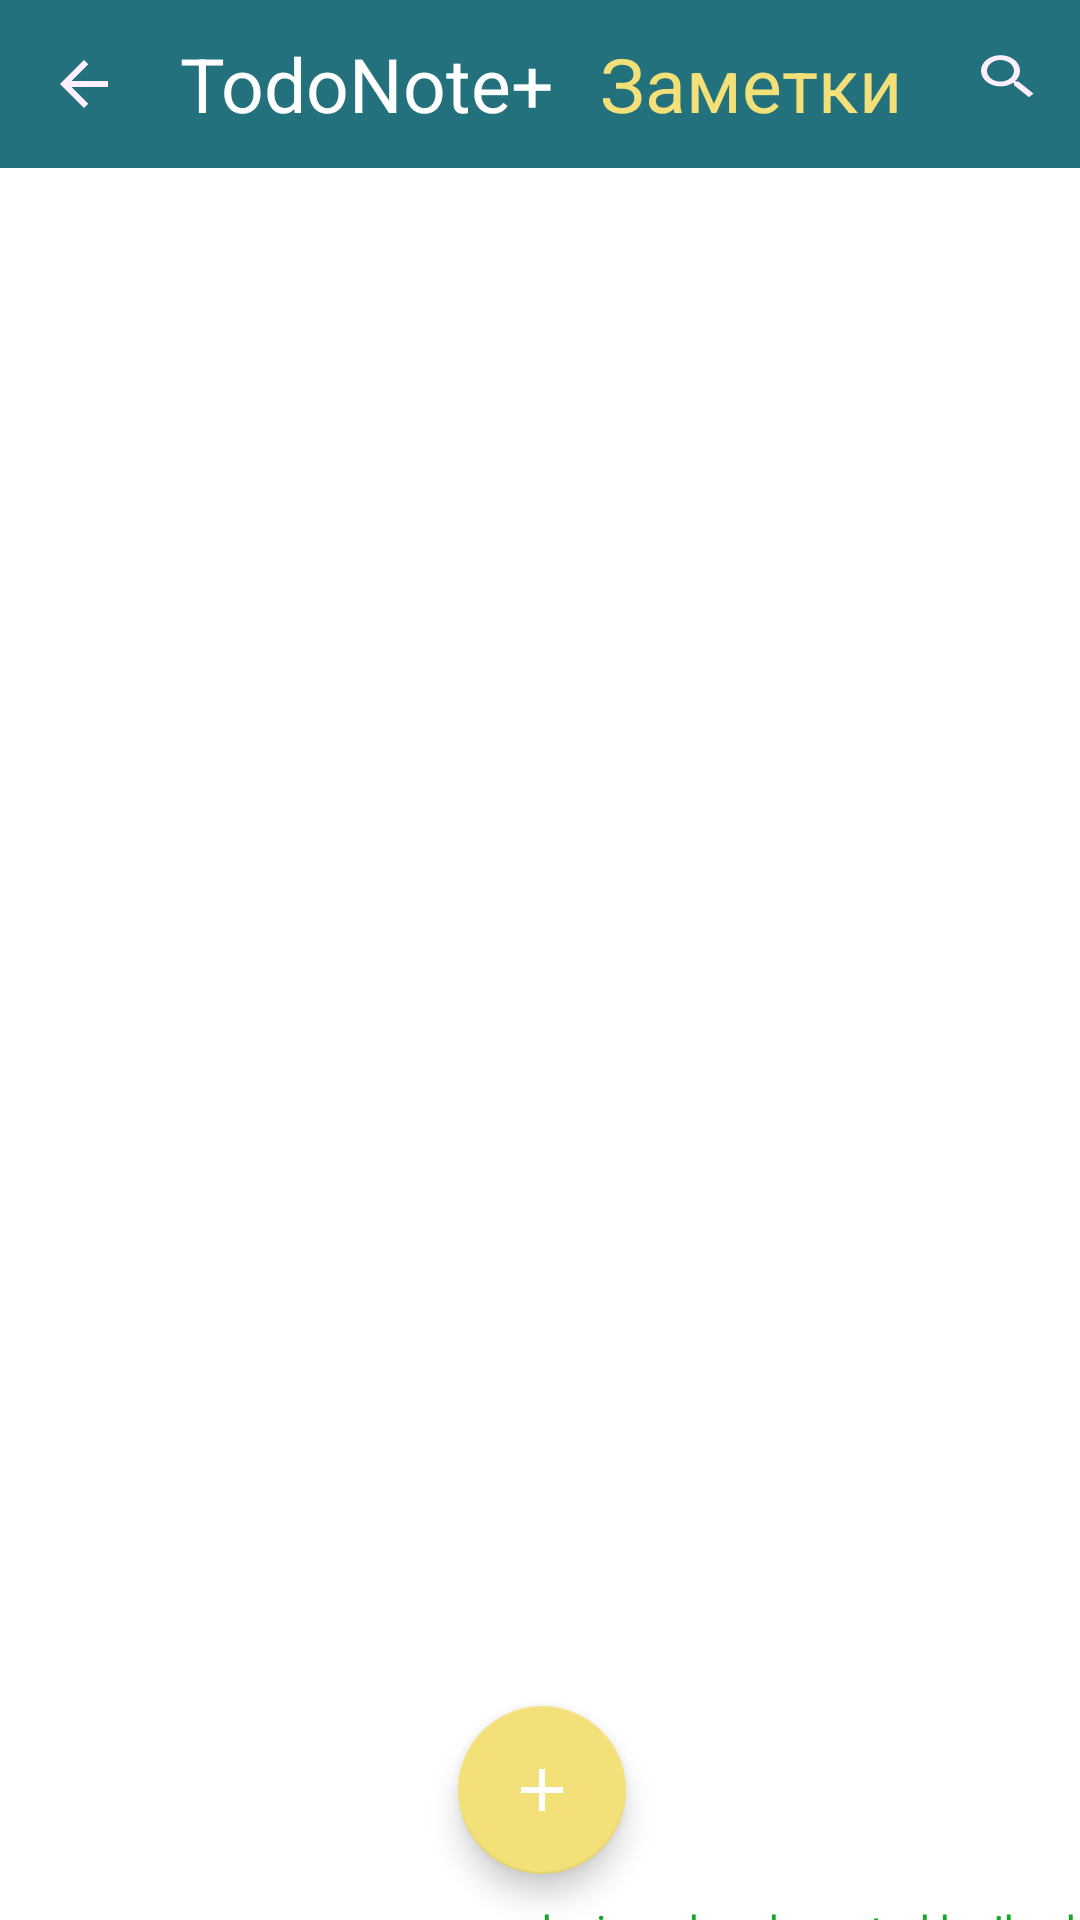

Named icons in this screenshot (1080px x 1920px) and their bounding boxes, (x1=x1, y1=y1, x2=x2, y2=y2):
add note: (x1=458, y1=1706, x2=626, y2=1874)
back: (x1=60, y1=60, x2=108, y2=108)
search: (x1=981, y1=55, x2=1034, y2=97)
